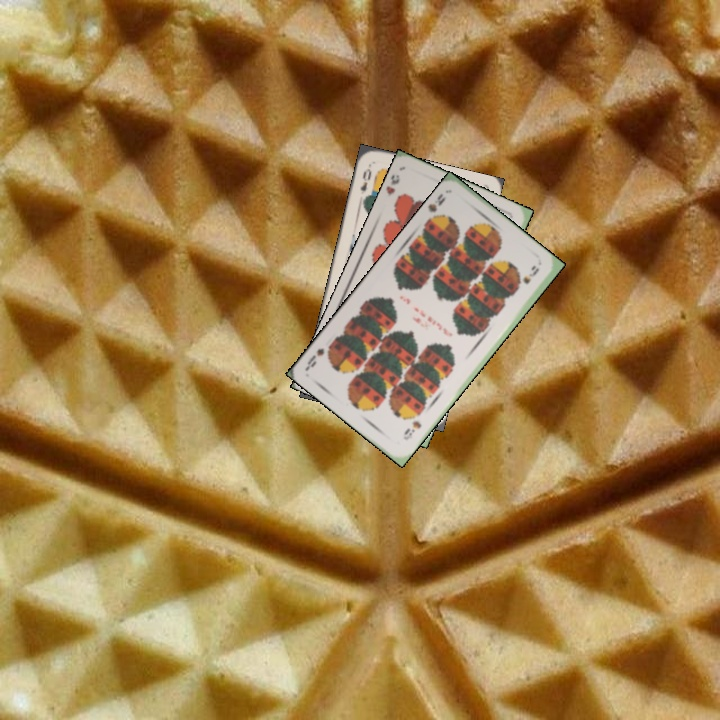EO: (356, 164, 374, 202)
H9: (383, 171, 403, 197)
S9: (423, 189, 449, 226), (399, 417, 424, 443)
